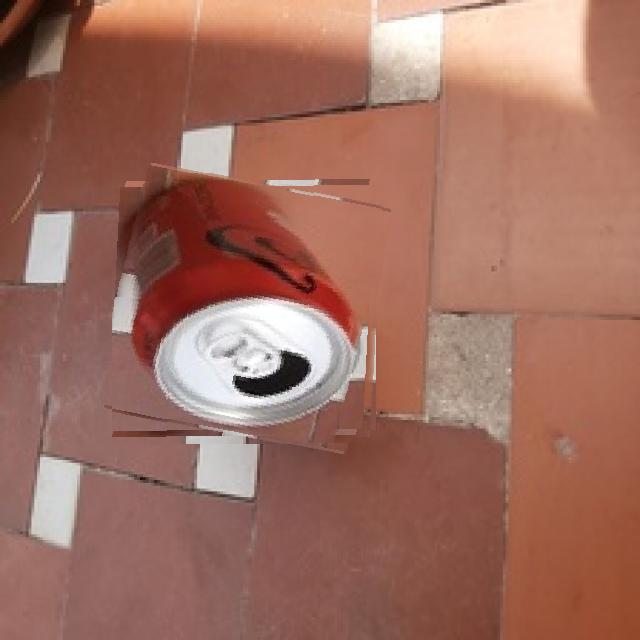recyclable: (112, 173, 384, 445)
